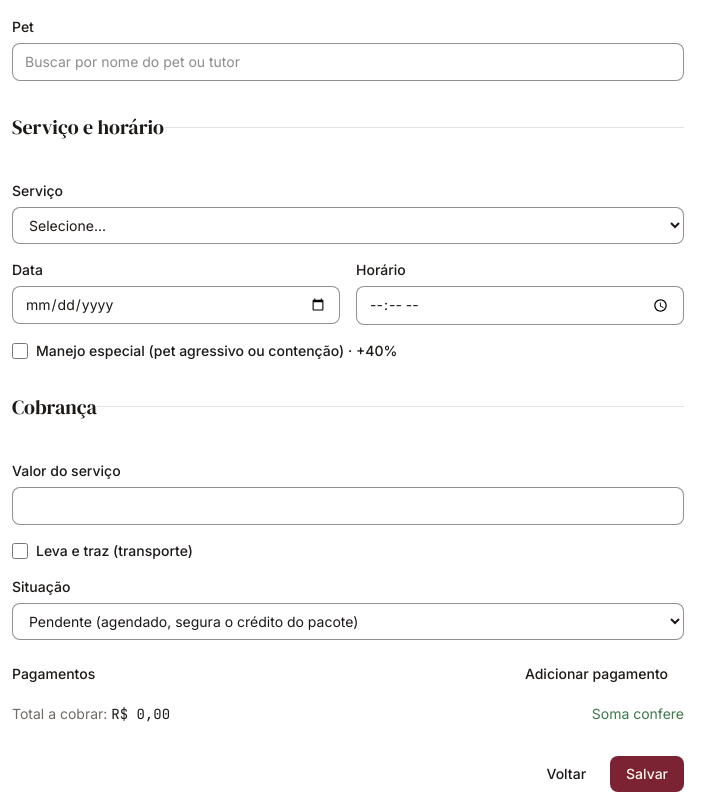
Scenario: AtendimentoForm › salvar sem escolher o serviço avisa no próprio campo
(page scrolled)
Click the button "Salvar". click: [647, 774]
box: [610, 756, 684, 791]
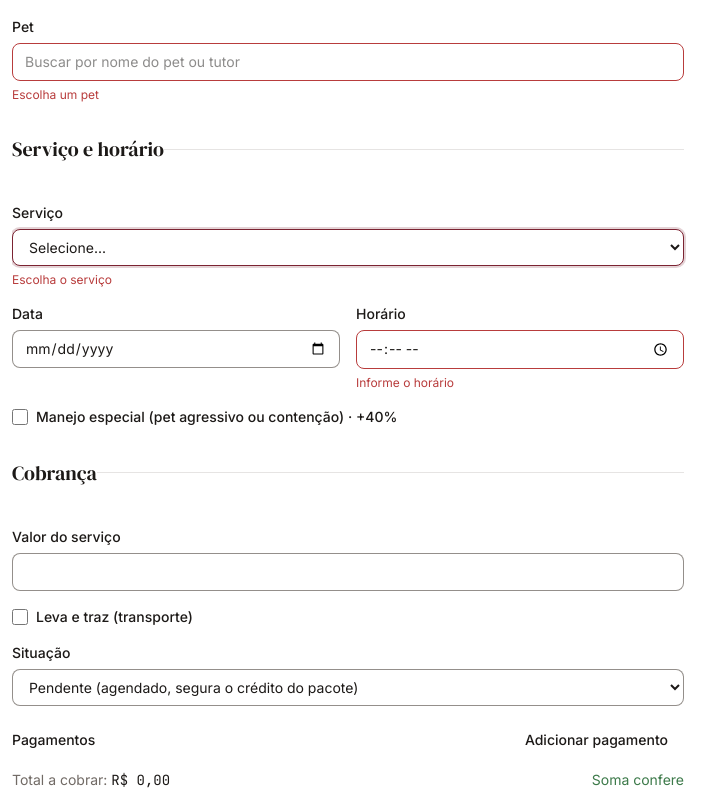
Expected: the text "Escolha o serviço" is shown, [12, 272, 112, 287]
Expected: the text "Informe o horário" is shown, [356, 375, 454, 390]
